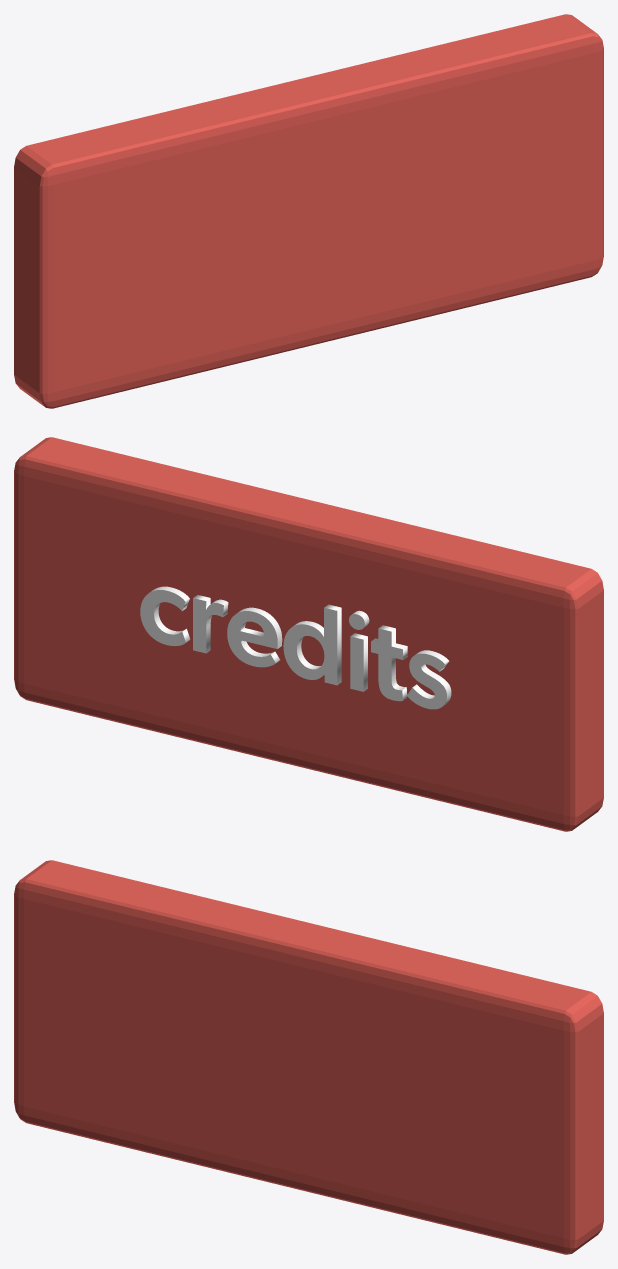
Rendered from Remix_UI_CREDITSbutton_.fbx.
The picture shows the model from 3 angles, top to bottom: view 1: azimuth 30°, elevation 25°; view 2: azimuth 150°, elevation 25°; view 3: azimuth 330°, elevation 25°; orthographic projection.
Visible parts, largest first — view 1: Cube.038; view 2: Cube.038, dress me.104; view 3: Cube.038.
Part boxes in pixels (box(x1,y1,x2,y2)): Cube.038: box(14, 14, 603, 408); Cube.038: box(14, 437, 603, 831); dress me.104: box(140, 586, 451, 709); Cube.038: box(14, 860, 603, 1254).
Bounding box in the file's own units: 102 × 42.35 × 10.95.
